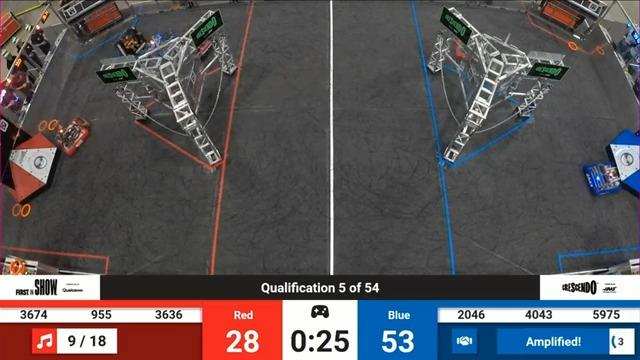robot: (580, 151, 631, 204), (453, 21, 503, 63), (174, 25, 226, 64), (111, 26, 153, 69), (58, 121, 99, 158), (147, 29, 180, 60)
